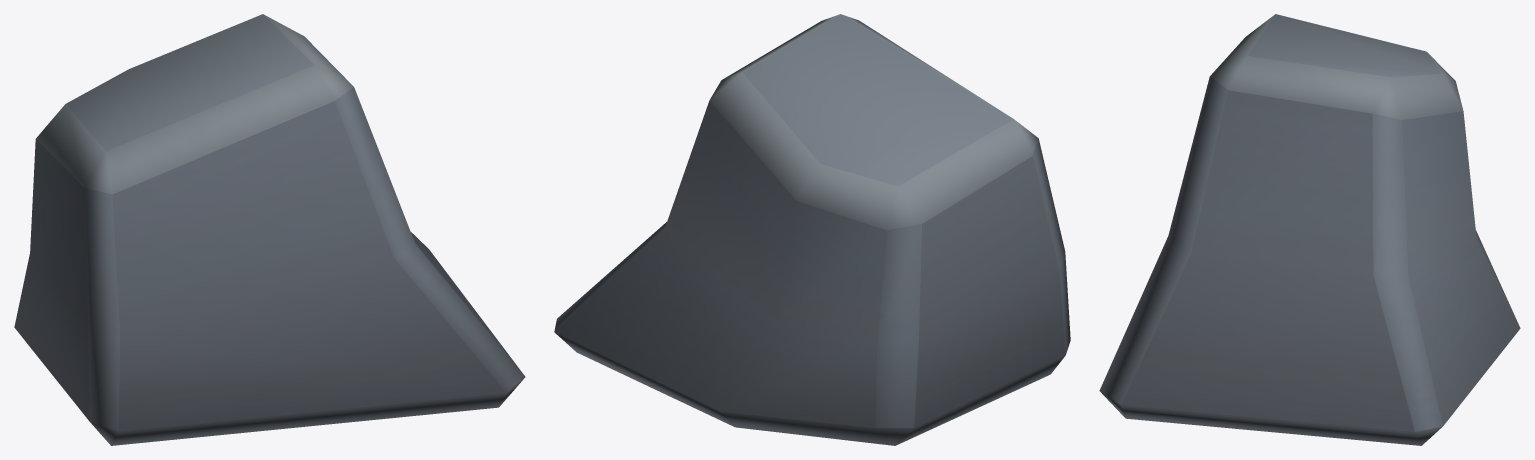
File: rock_07.fbx
The picture shows the model from 3 angles, left to right: view 1: azimuth 30°, elevation 25°; view 2: azimuth 150°, elevation 25°; view 3: azimuth 270°, elevation 25°; orthographic projection. The views are drawn at different scales.
Parts seen in each view (by area): view 1: rock_07; view 2: rock_07; view 3: rock_07.
Part boxes in pixels (box(x1,y1,x2,y2)): rock_07: box(14, 14, 525, 445); rock_07: box(554, 14, 1070, 445); rock_07: box(1099, 14, 1520, 445).
Size of the model in its own units: 69.99 by 50.35 by 62.55.
